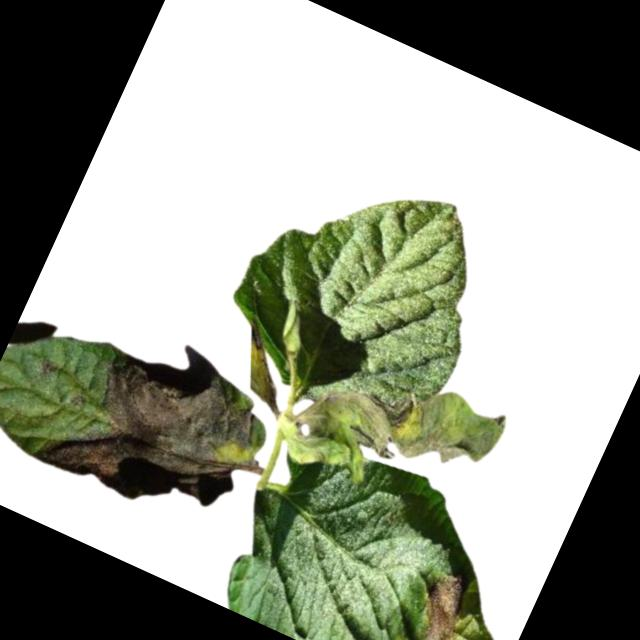Late_blight: (34, 305, 282, 538), (278, 337, 513, 538), (408, 564, 485, 640), (37, 354, 60, 378), (375, 634, 438, 640)
healthy: (209, 136, 517, 444)
